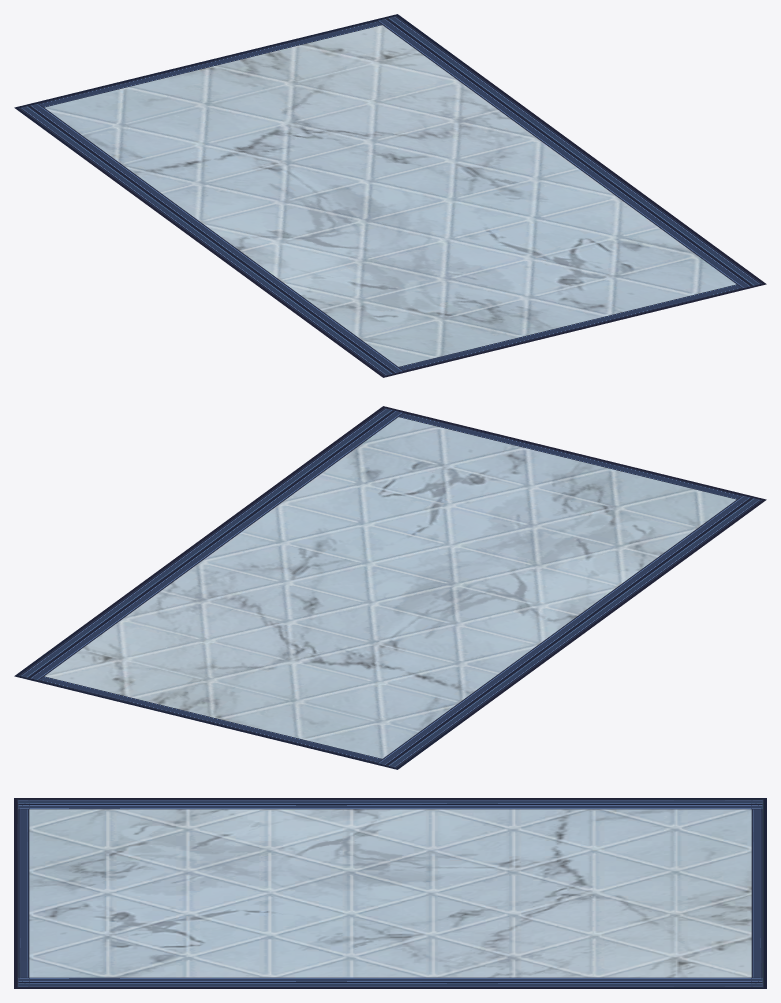
File: my_millenniumlounge_01_carpet_06.glb
3 renders of one model, top to bottom at view 1: azimuth 30°, elevation 25°; view 2: azimuth 150°, elevation 25°; view 3: azimuth 270°, elevation 25°, orthographic.
Visible parts, largest first — view 1: my_millenniumlounge_01_carpet_06; view 2: my_millenniumlounge_01_carpet_06; view 3: my_millenniumlounge_01_carpet_06.
Boxes of the visible parts, x1,y1,x2,y2 form: my_millenniumlounge_01_carpet_06: (14, 14, 766, 377); my_millenniumlounge_01_carpet_06: (14, 406, 766, 769); my_millenniumlounge_01_carpet_06: (14, 798, 766, 988).
Bounding box in the file's own units: 0.018 × 1.16e-12 × 0.03.
Materials: 1 (1 with a texture image).
